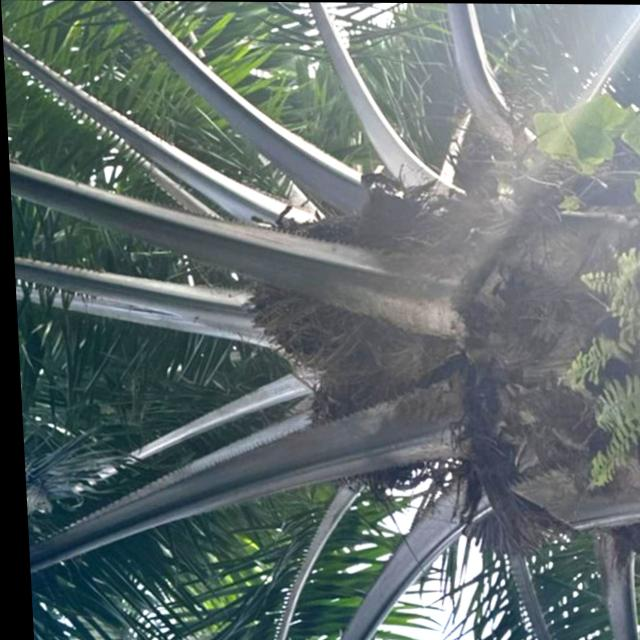unripe: (236, 210, 432, 379)
